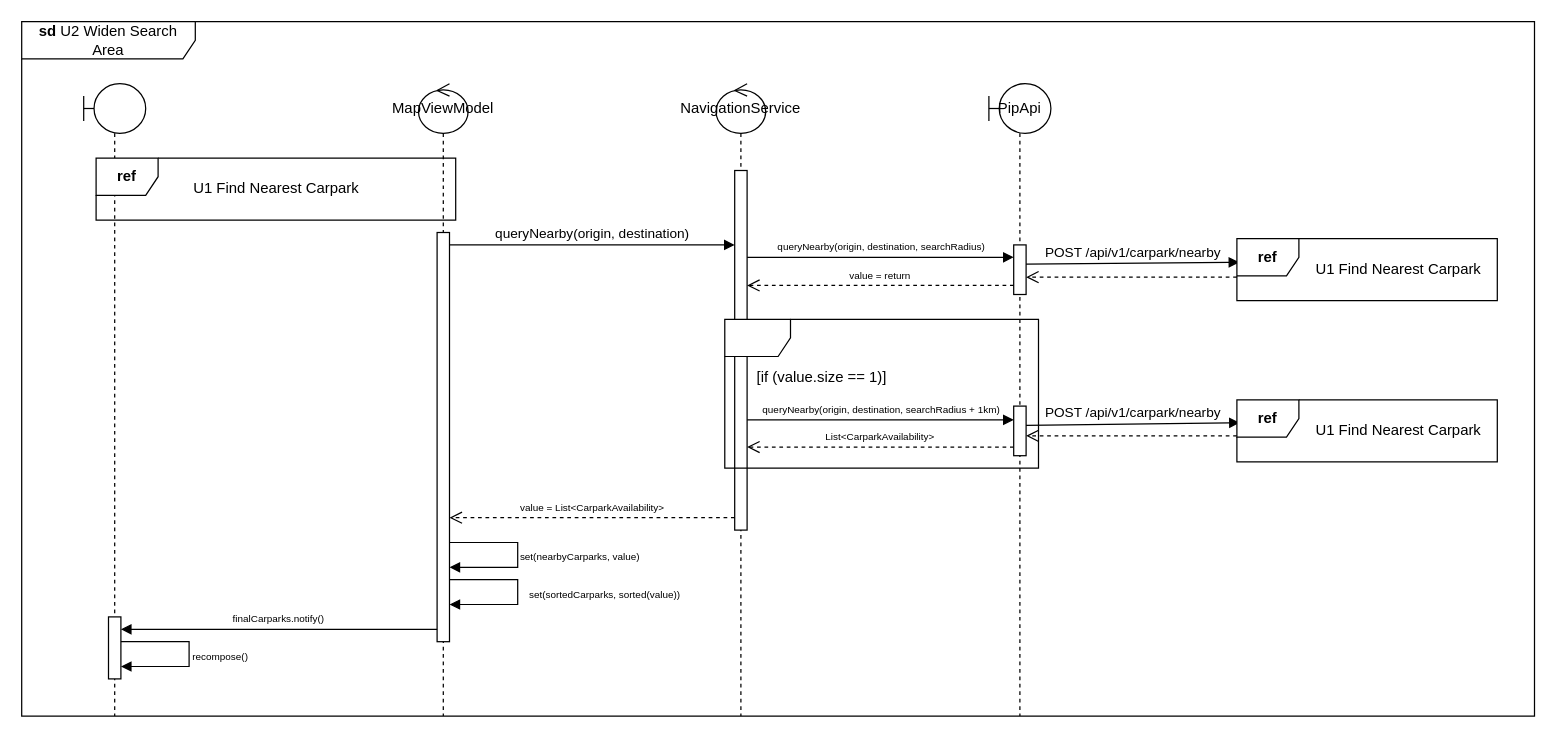
Image size: 1556x738. Some labels were removed from this diagram. The shapes that lost their labels are listed below. From the top down, each one's box as (x1, y1, x2, y2) in pixels, then its label:
(82, 82, 146, 716): MapUI
(724, 318, 1038, 468): alt
